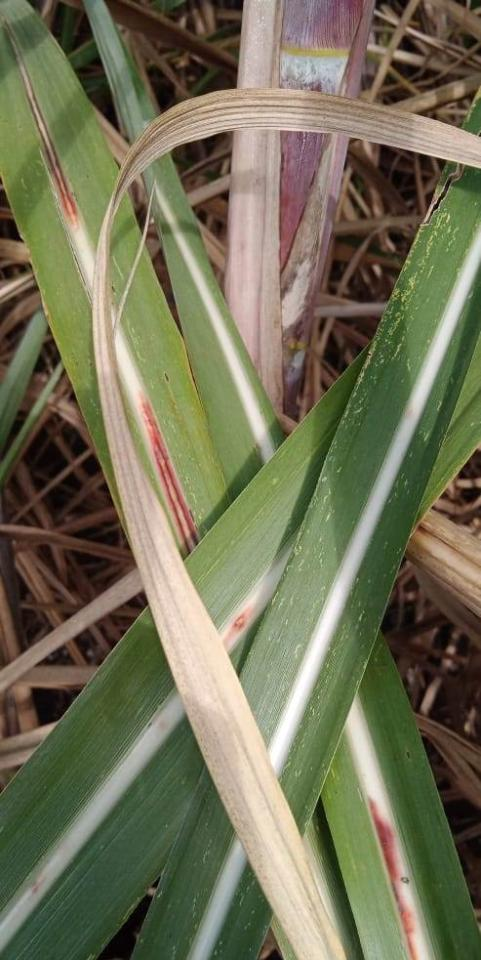RedRot: (1, 20, 83, 230), (139, 388, 201, 553), (367, 791, 419, 959), (221, 605, 262, 650)
